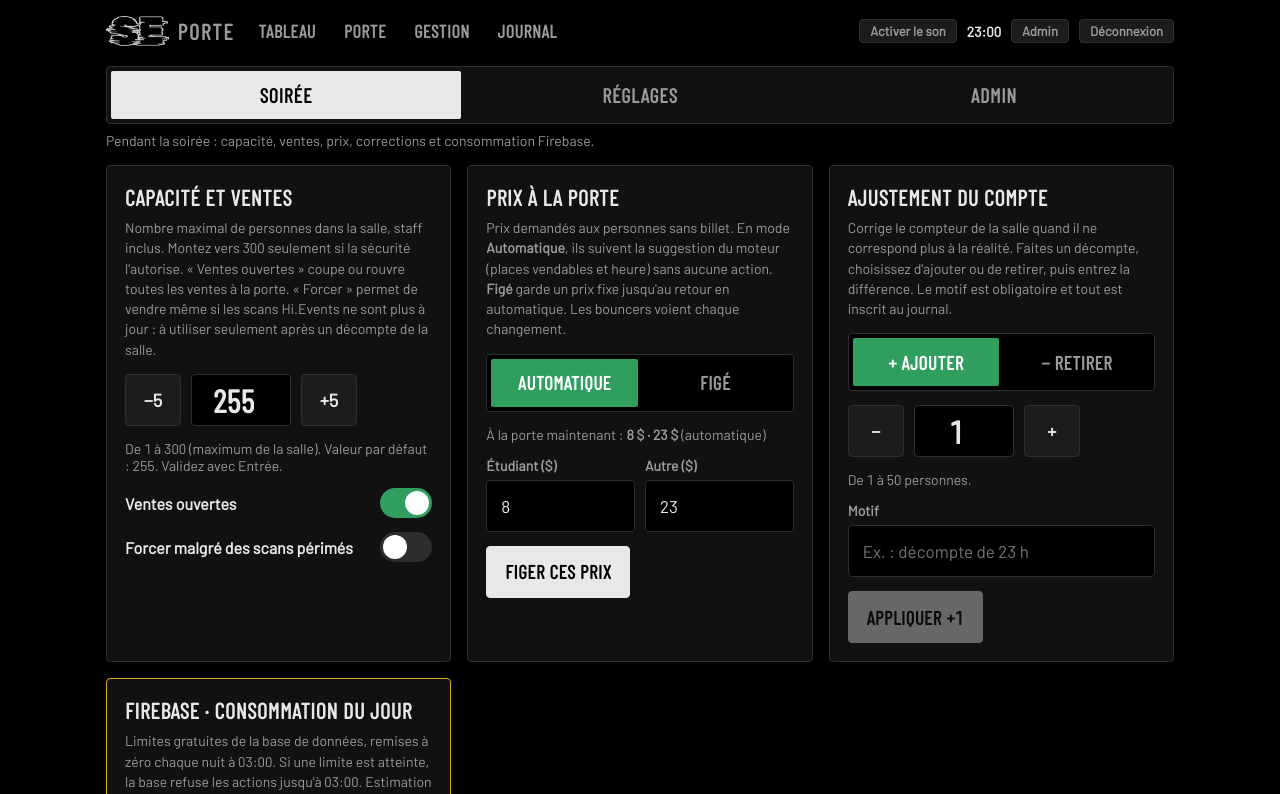
Scenario: Écran Gestion › le dernier Admin ne peut pas être désactivé
This screenshot has width=1280, height=794.
Click the tab "Admin".
click(994, 95)  # box [819, 71, 1169, 119]
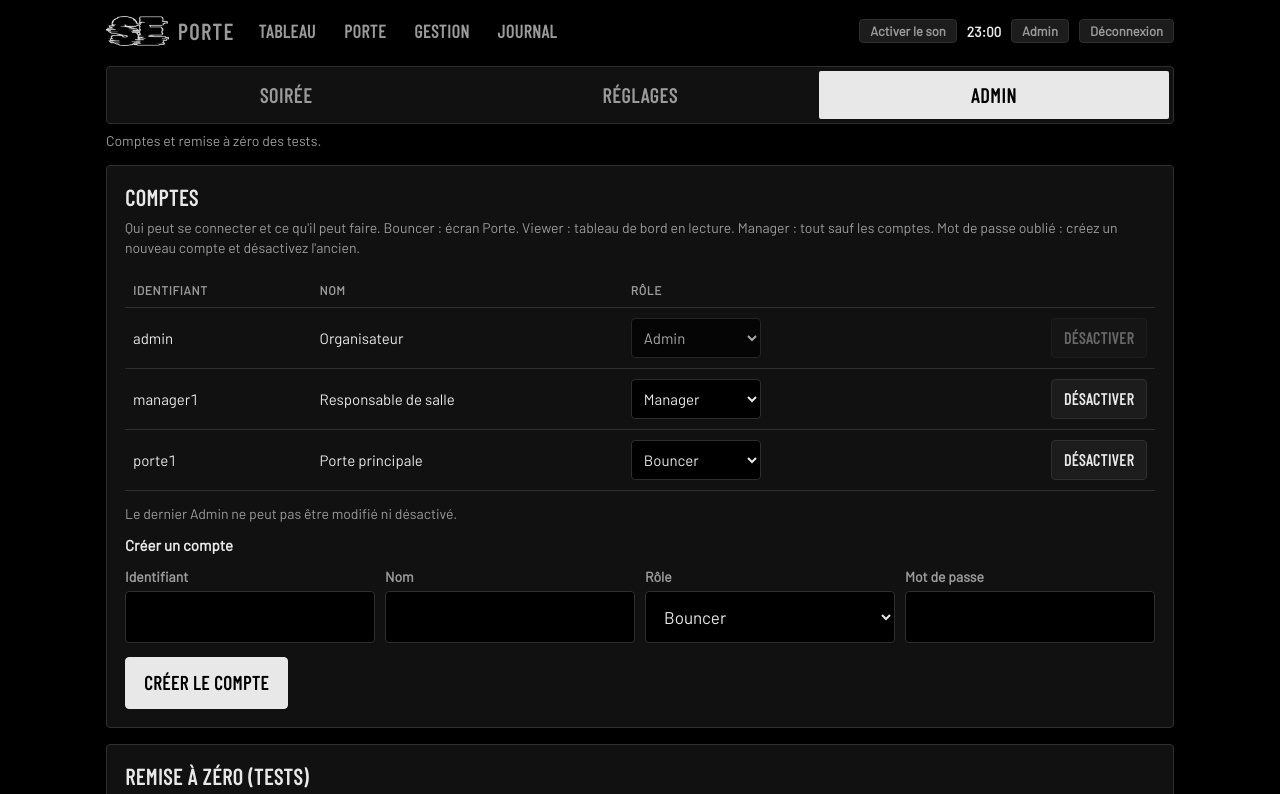
Expected: the button "Désactiver" in the row of "Organisateur" is disabled, [1051, 318, 1147, 358]
Expected: the button "Désactiver" in the row of "manager1" is enabled, [1051, 379, 1147, 419]
